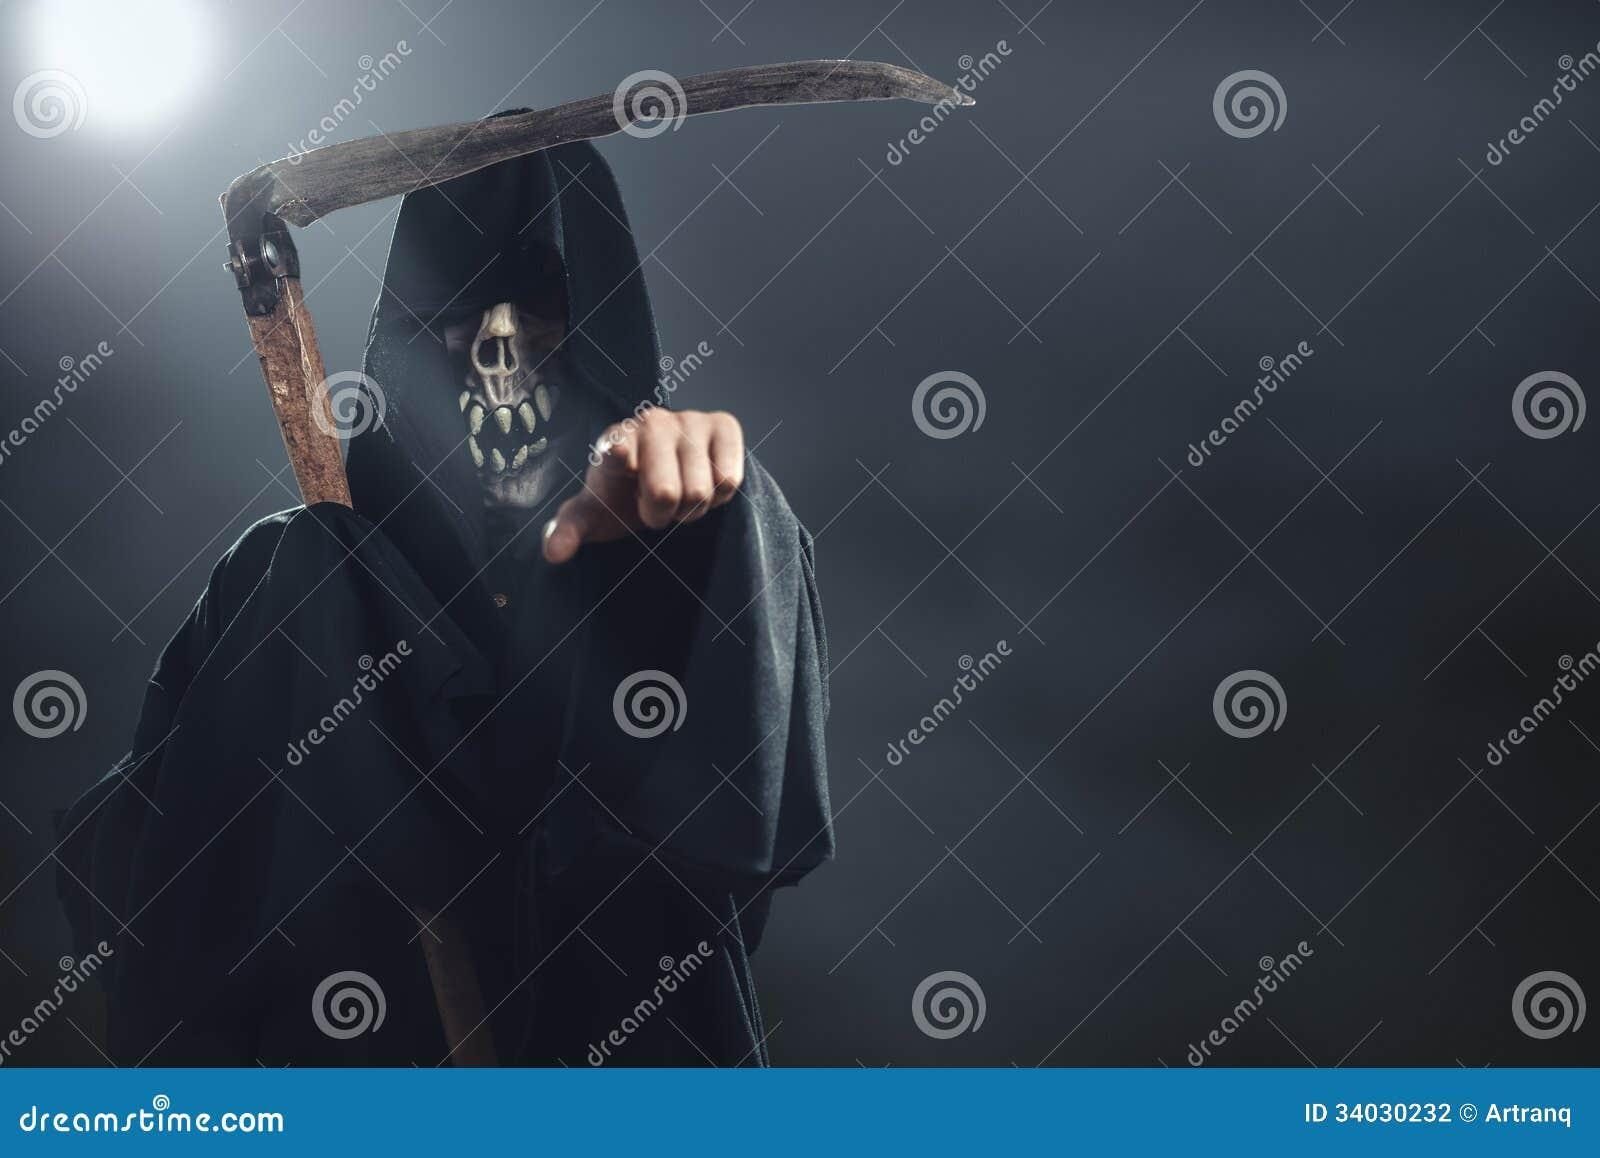foice: (221, 61, 958, 504)
